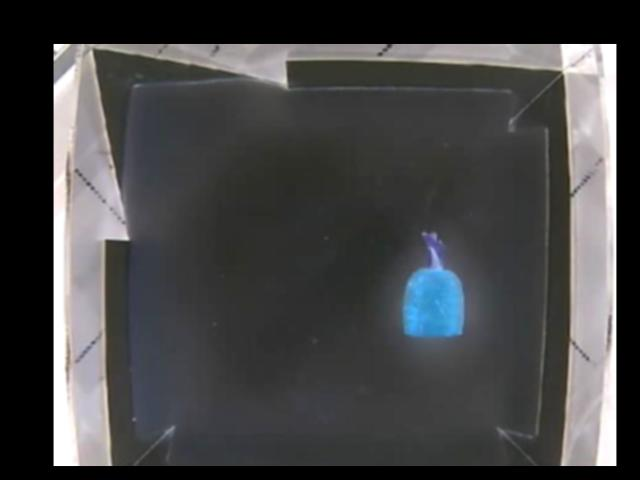Carrot: (402, 230, 466, 336)
